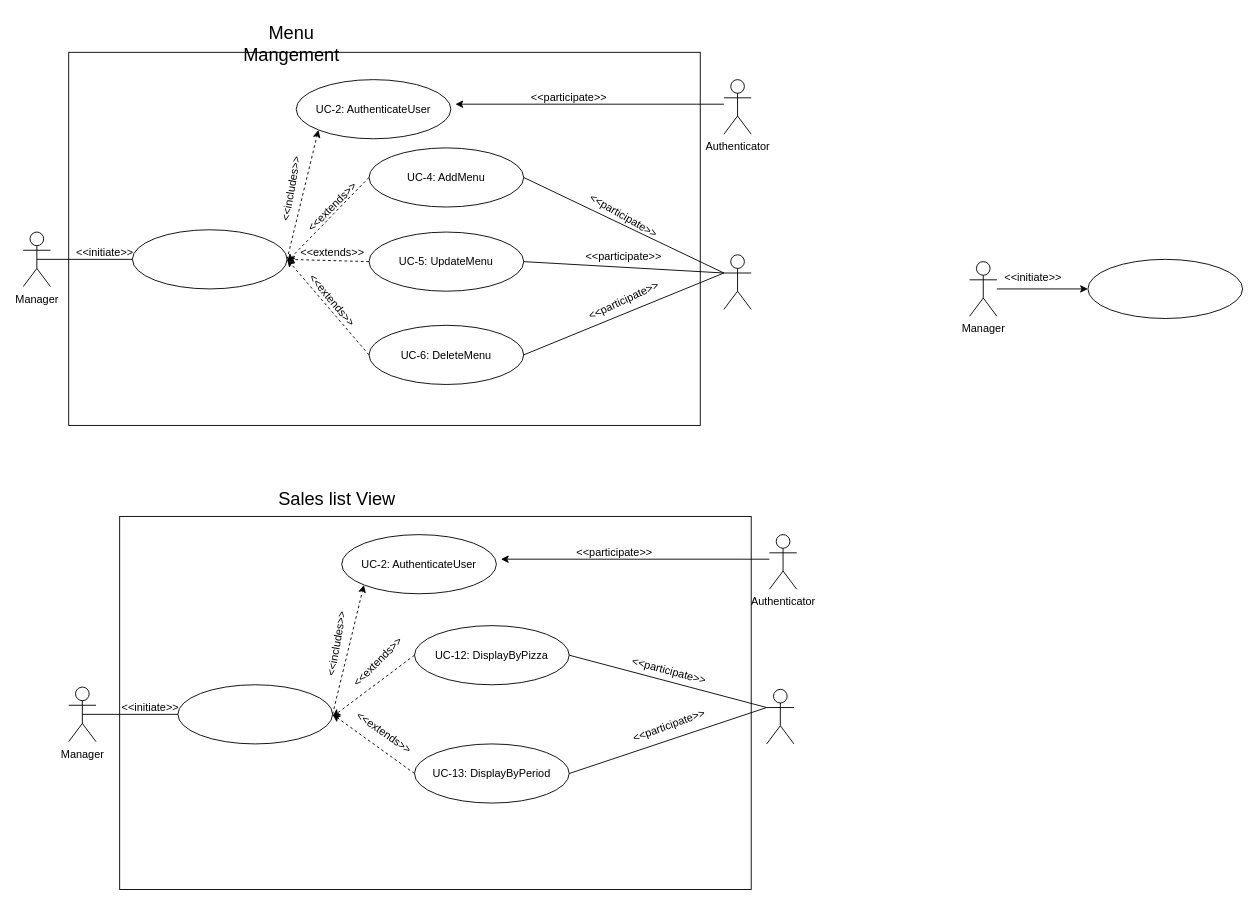
This 1259x905 diagram has some shape labels left out. Here are the shapes that lost their labels. From the top down, the box of each, then its label:
(131, 229, 287, 289): UC-3: ManageMenus
(723, 254, 751, 309): Menulist
(1087, 258, 1243, 318): UC-14: SwitchOpening
(177, 684, 333, 744): UC-11: DisplaySales
(766, 688, 794, 744): Orderlist
